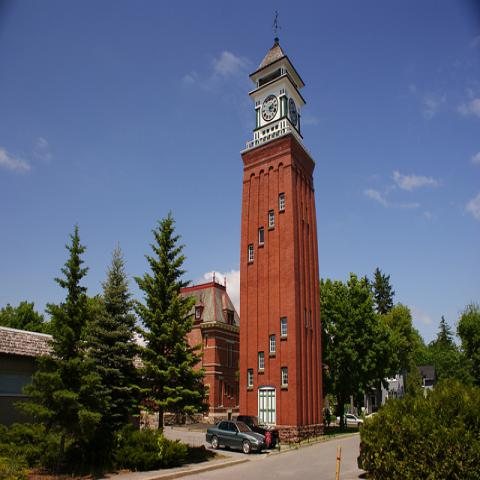car: (206, 419, 267, 454), (237, 415, 280, 438), (336, 414, 364, 428), (365, 412, 377, 420)
